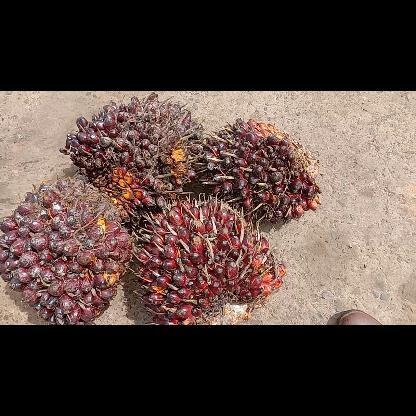Kurang masak: (129, 194, 289, 324), (56, 90, 206, 224)
TBS mentah: (0, 174, 134, 324), (194, 115, 324, 226)
